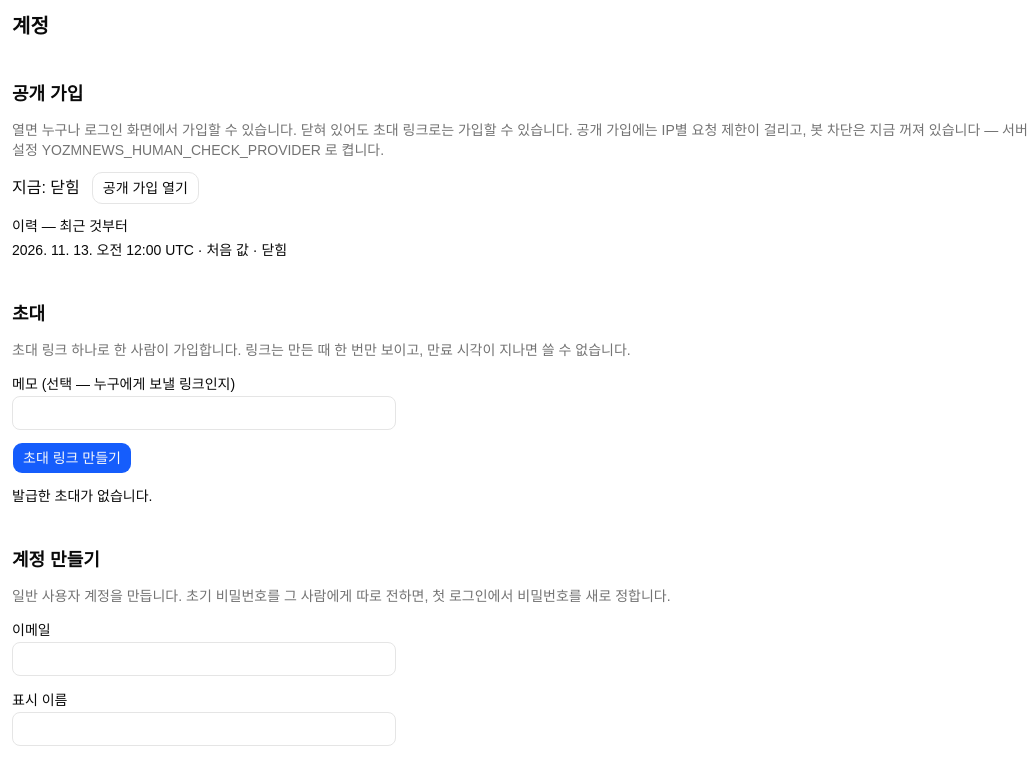
AccountsPage › 공개 가입의 지금 값과 이력을 보이고, 바꾸면 다시 읽는다
Check: the text "지금: 닫힘" is shown, box top-left (12, 176), bottom-right (80, 200)
Check: the text "공개 가입에는 IP별 요청 제한이 걸리고, 봇 차단은 지금 꺼져 있습니다 — 서버 설정 YOZMNEWS_HUMAN_CHECK_PROVIDER 로 켭니다." is shown, box top-left (12, 120), bottom-right (1035, 160)
Click the button "공개 가입 열기". click: (145, 188)
box: top-left (92, 172), bottom-right (199, 204)
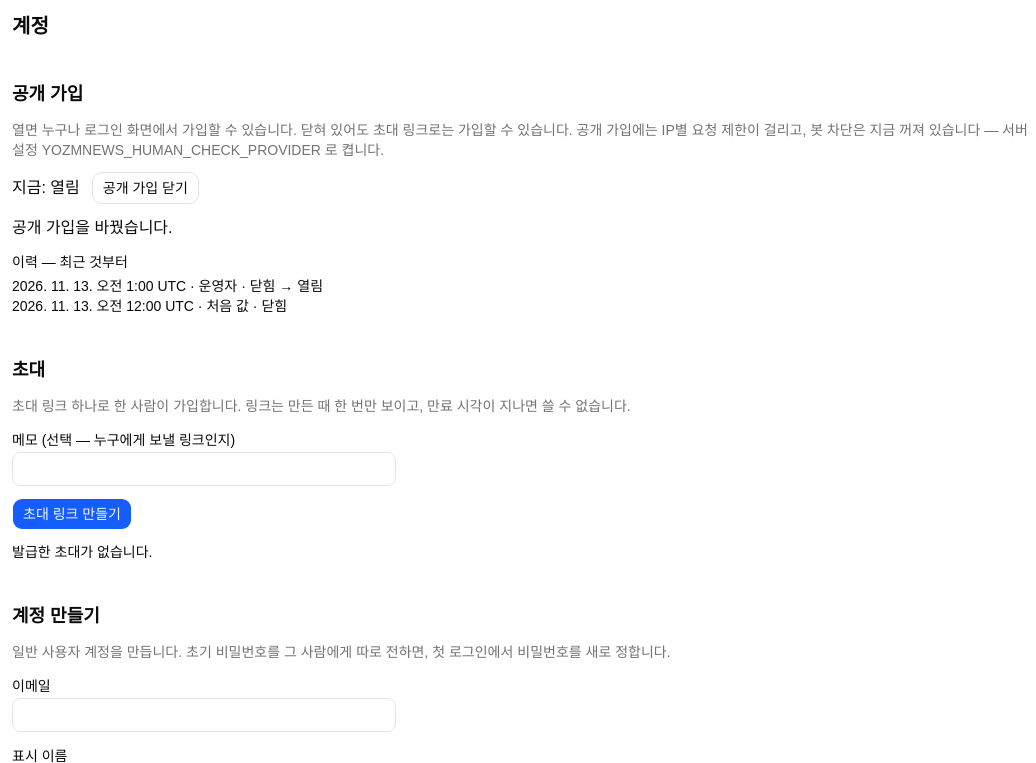
Check: the text "지금: 열림" is shown, box top-left (12, 176), bottom-right (80, 200)
Check: the message reads "공개 가입을 바꿨습니다.", box top-left (12, 219), bottom-right (172, 236)
Check: the list item "2026. 11. 13. 오전 1:00 UTC · 운영자 · 닫힘 → 열림" is shown, box top-left (12, 278), bottom-right (323, 294)
